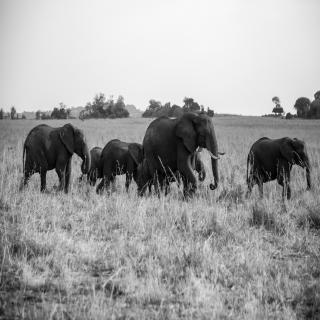Elephant: (138, 110, 229, 198), (19, 121, 92, 199), (244, 132, 317, 201)
